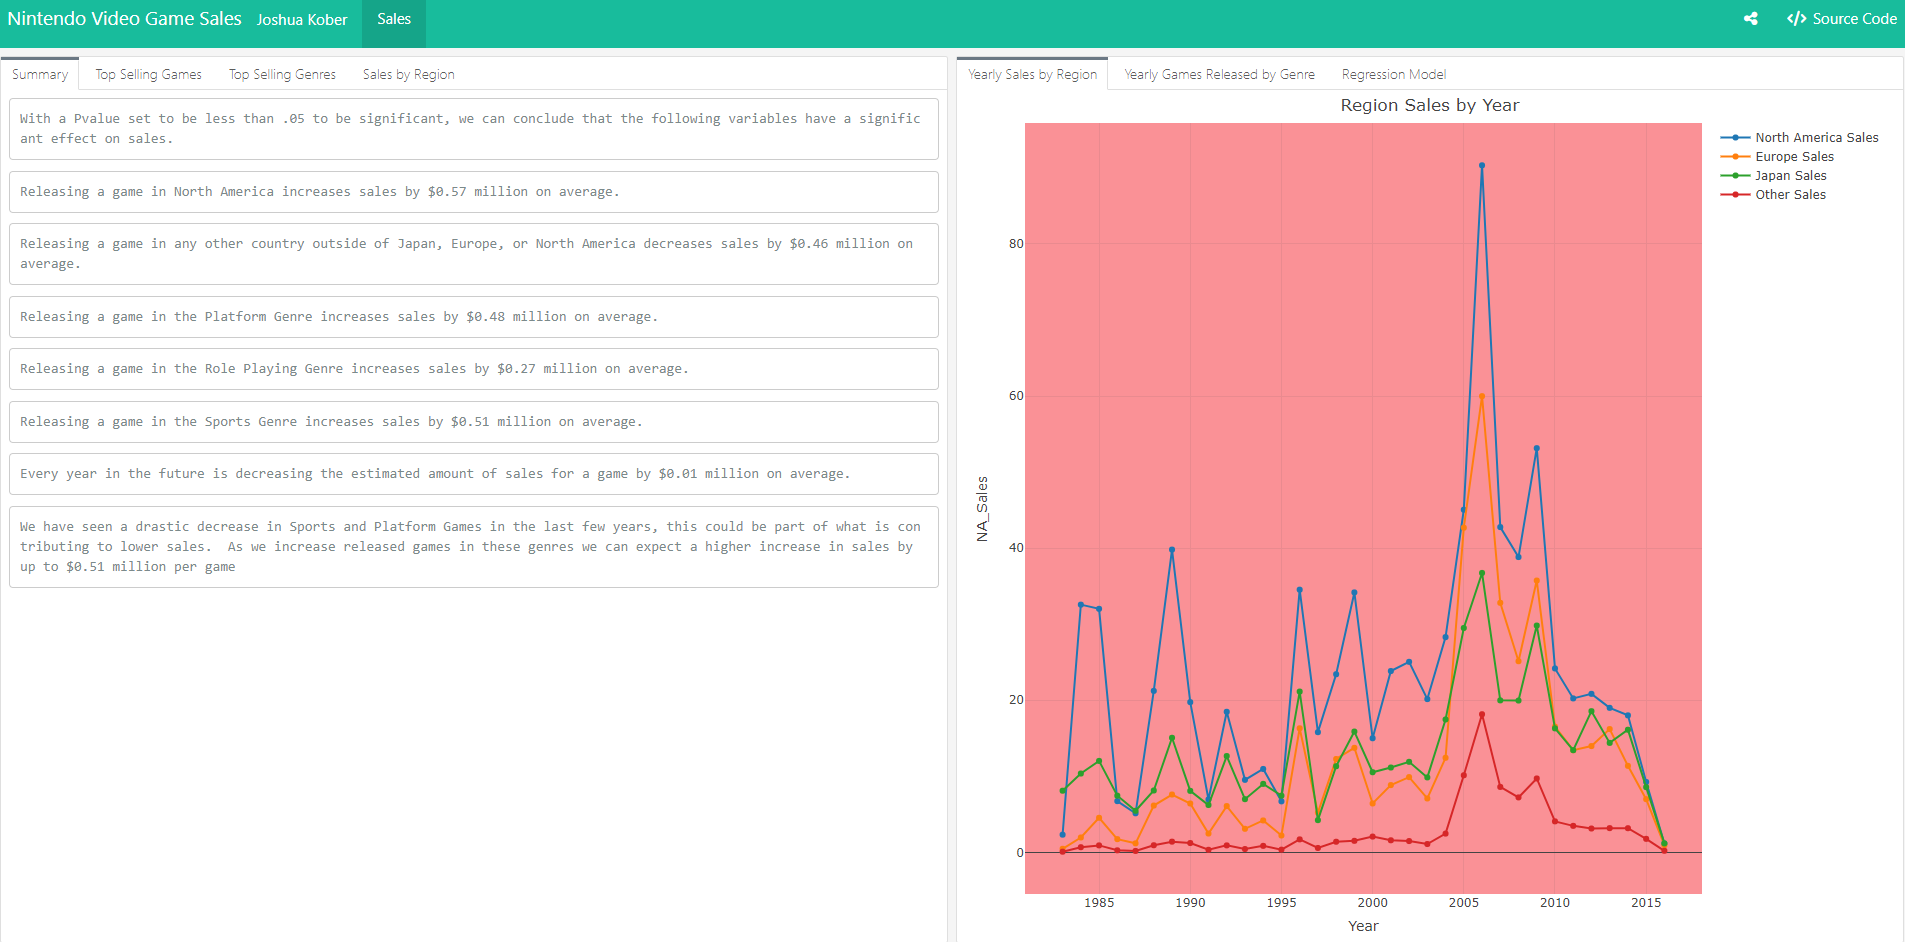

The page's visual inventory and layout, read from the dashboard file:
{"tool":"tableau","page":{"name":"Dashboard 1","canvas":[1600,900],"ordinal":0},"visuals":[{"type":"image","param":"C:/repos/github/internet_usage/tableau_background.svg","box":[0,0,1600,900]}]}

Visuals, with their boxes on the page's 1600x900 design canvas (x1, y1, x2, y2). These are canvas units, not pixel positions in the 1905x942 screenshot, which may show the page scaled, cropped or inside an application window:
image: rect(0, 0, 1600, 900)
